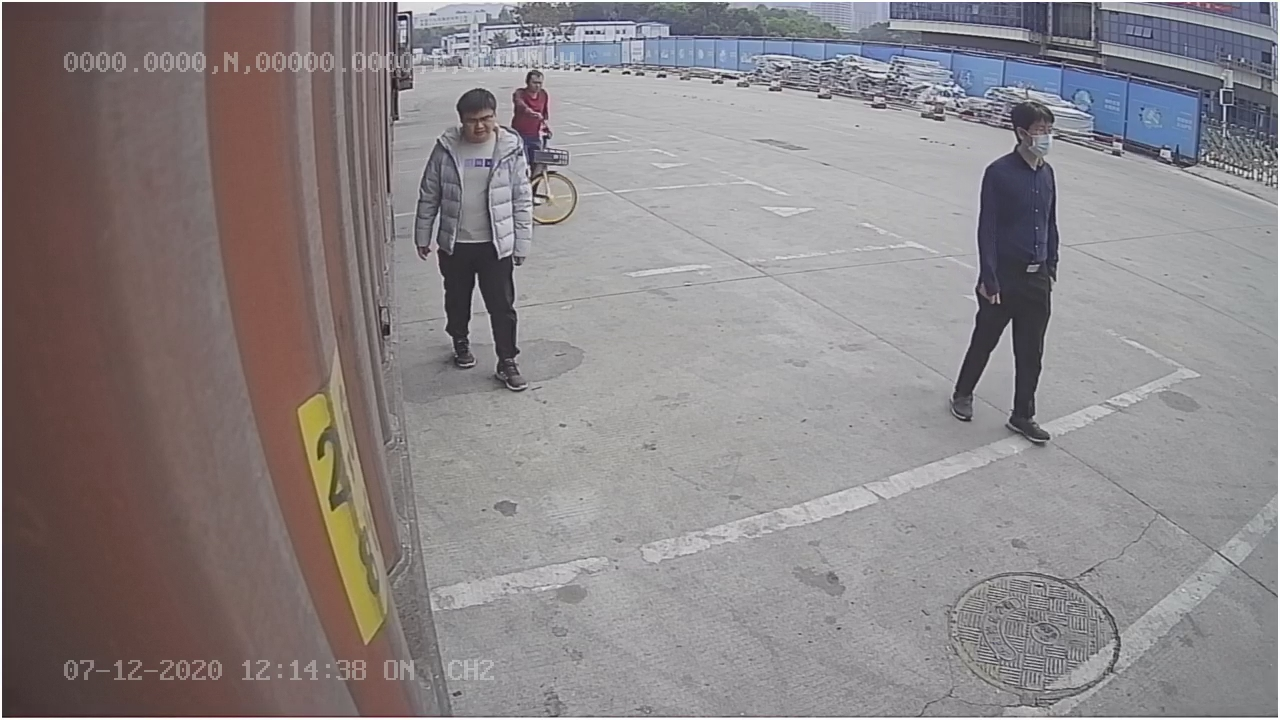person: (947, 96, 1065, 449)
